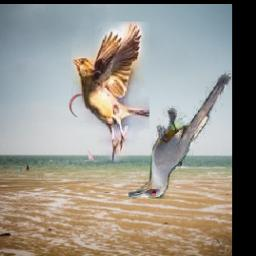Cuckoo: (128, 71, 231, 200)
Sparrow: (71, 22, 149, 163)
